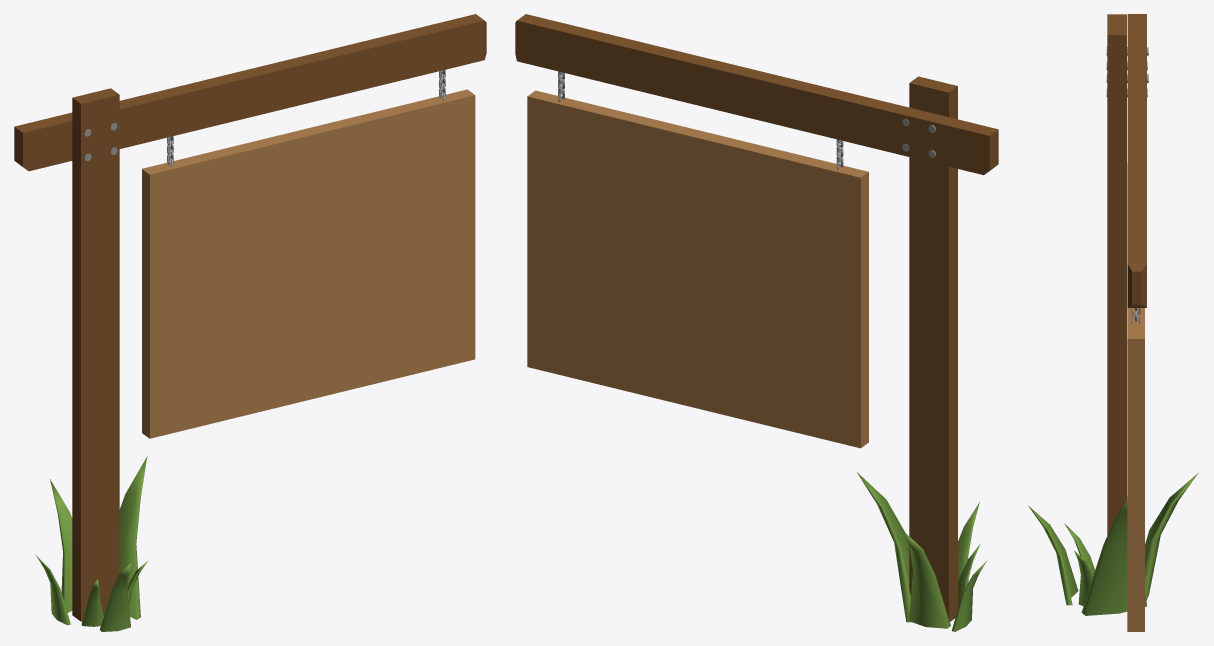
File: Wood_Sign.fbx
The picture shows the model from 3 angles, left to right: view 1: azimuth 30°, elevation 25°; view 2: azimuth 150°, elevation 25°; view 3: azimuth 270°, elevation 25°; orthographic projection. The views are drawn at different scales.
Parts seen in each view (by area): view 1: WoodSign; view 2: WoodSign; view 3: WoodSign.
Part boxes in pixels (x1=…): WoodSign: x1=14, y1=14, x2=486, y2=631; WoodSign: x1=515, y1=14, x2=998, y2=631; WoodSign: x1=1028, y1=14, x2=1198, y2=631.
Bounding box in the file's own units: 9.71 × 10.32 × 2.8.
